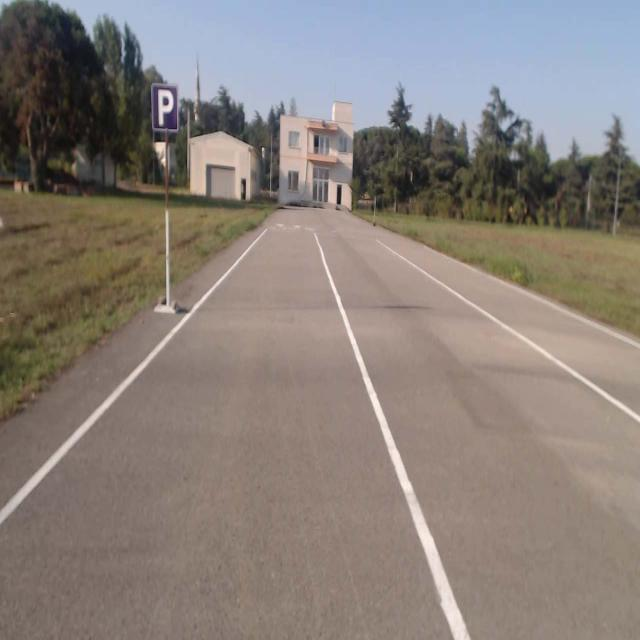park: (153, 84, 176, 129)
